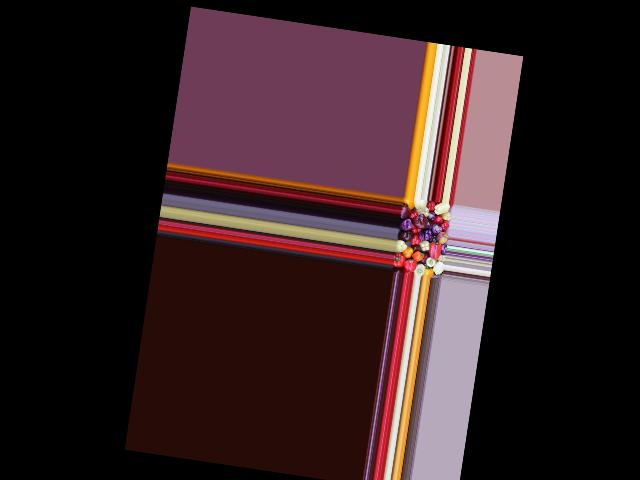bell_pepper: (413, 261, 424, 276)
